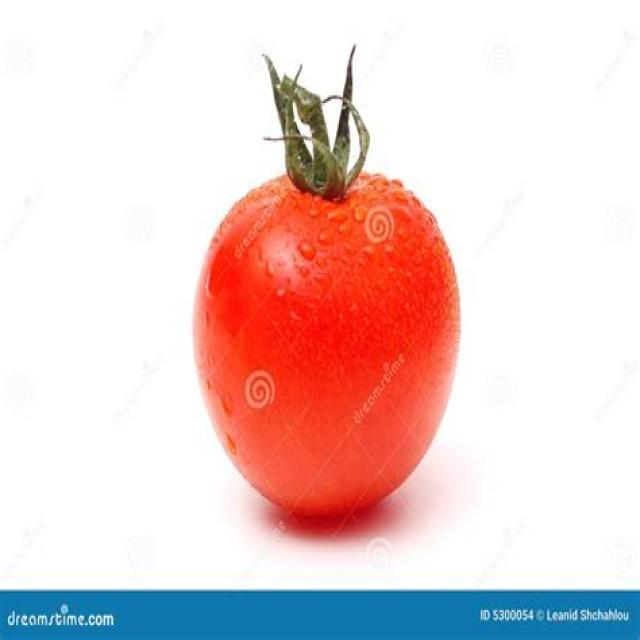Tomato: (191, 124, 463, 528)
